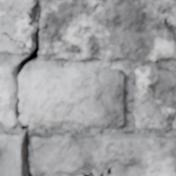brick: (40, 0, 175, 60), (33, 133, 175, 175), (134, 67, 175, 128), (0, 0, 38, 48), (0, 131, 26, 175), (0, 35, 28, 52)
broken_brick: (20, 66, 126, 130), (0, 62, 18, 127)
crack: (0, 2, 41, 175), (54, 170, 93, 175), (99, 165, 115, 175), (169, 29, 175, 42)
